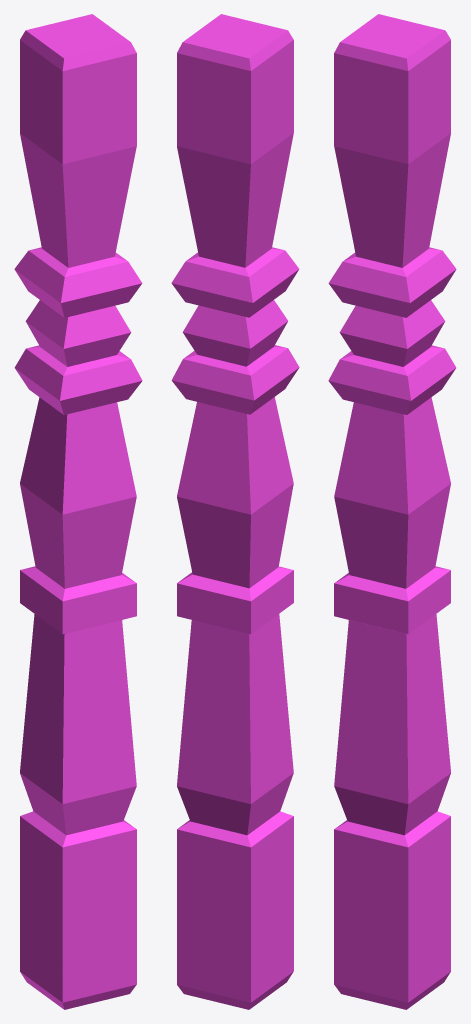
Rendered from SM_Pillar_Wood_B_3m_Fantasy.fbx.
The picture shows the model from 3 angles, left to right: view 1: azimuth 30°, elevation 25°; view 2: azimuth 150°, elevation 25°; view 3: azimuth 330°, elevation 25°; orthographic projection.
Visible parts, largest first — view 1: SM_Pillar_Wood_B_3m_Fantasy; view 2: SM_Pillar_Wood_B_3m_Fantasy; view 3: SM_Pillar_Wood_B_3m_Fantasy.
Boxes of the visible parts, <box> form: SM_Pillar_Wood_B_3m_Fantasy: <box>14,14,142,1009</box>; SM_Pillar_Wood_B_3m_Fantasy: <box>171,14,299,1009</box>; SM_Pillar_Wood_B_3m_Fantasy: <box>328,14,456,1009</box>.
Size of the model in its own units: 0.2788 by 3.07 by 0.2713.
